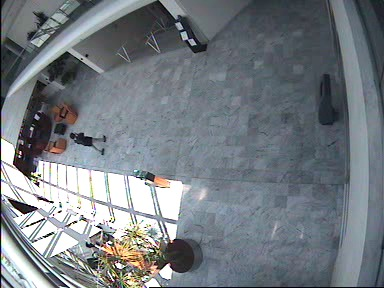person: (67, 132, 106, 154)
